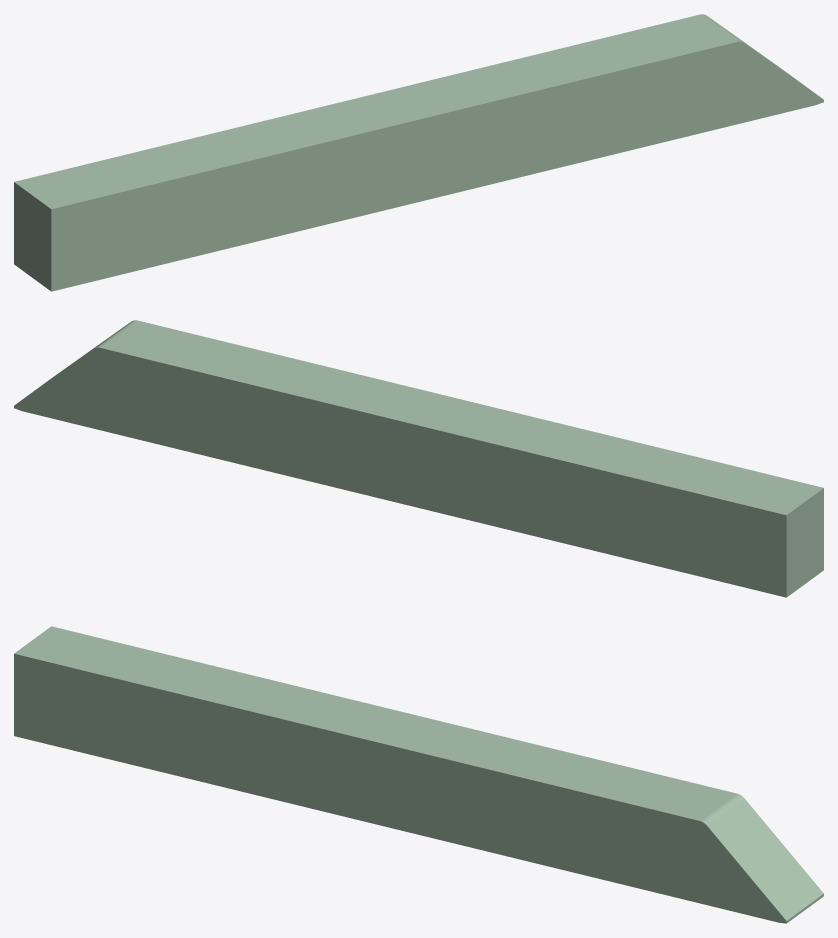
Rendered from ER_ANG_V002_WORK_LENGTH_candidate.glb.
3 renders of one model, top to bottom at view 1: azimuth 30°, elevation 25°; view 2: azimuth 150°, elevation 25°; view 3: azimuth 330°, elevation 25°, orthographic.
Parts seen in each view (by area): view 1: ER_ANG_V002_WORK_LENGTH_candidate; view 2: ER_ANG_V002_WORK_LENGTH_candidate; view 3: ER_ANG_V002_WORK_LENGTH_candidate.
Boxes of the visible parts, x1=… form: ER_ANG_V002_WORK_LENGTH_candidate: x1=14, y1=14, x2=823, y2=291; ER_ANG_V002_WORK_LENGTH_candidate: x1=14, y1=320, x2=823, y2=597; ER_ANG_V002_WORK_LENGTH_candidate: x1=14, y1=626, x2=823, y2=923.
Size of the model in its own units: 1.83 by 0.187 by 0.154.
